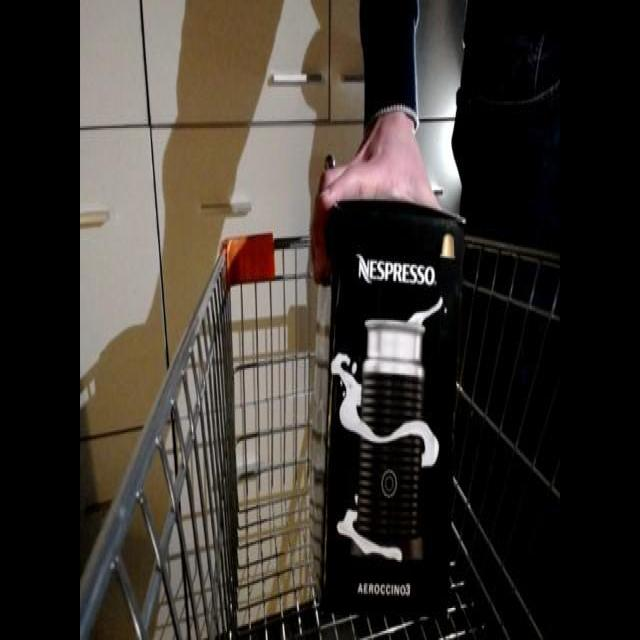Nespresso: (308, 166, 488, 634)
